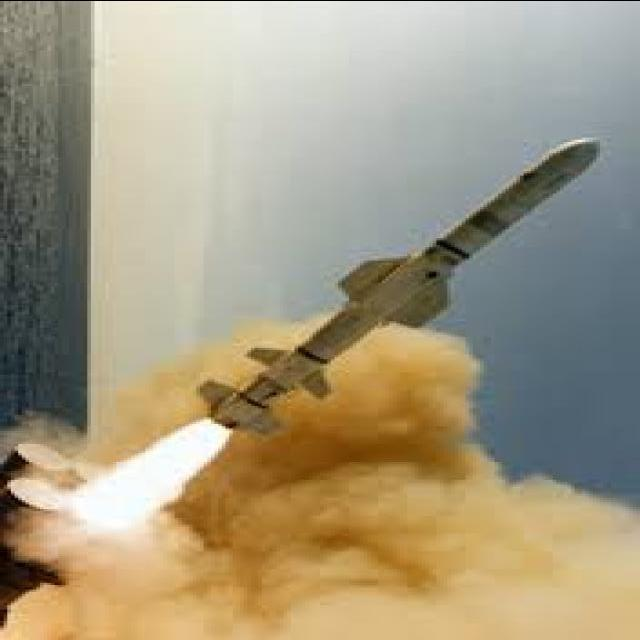missile: (195, 138, 602, 440)
